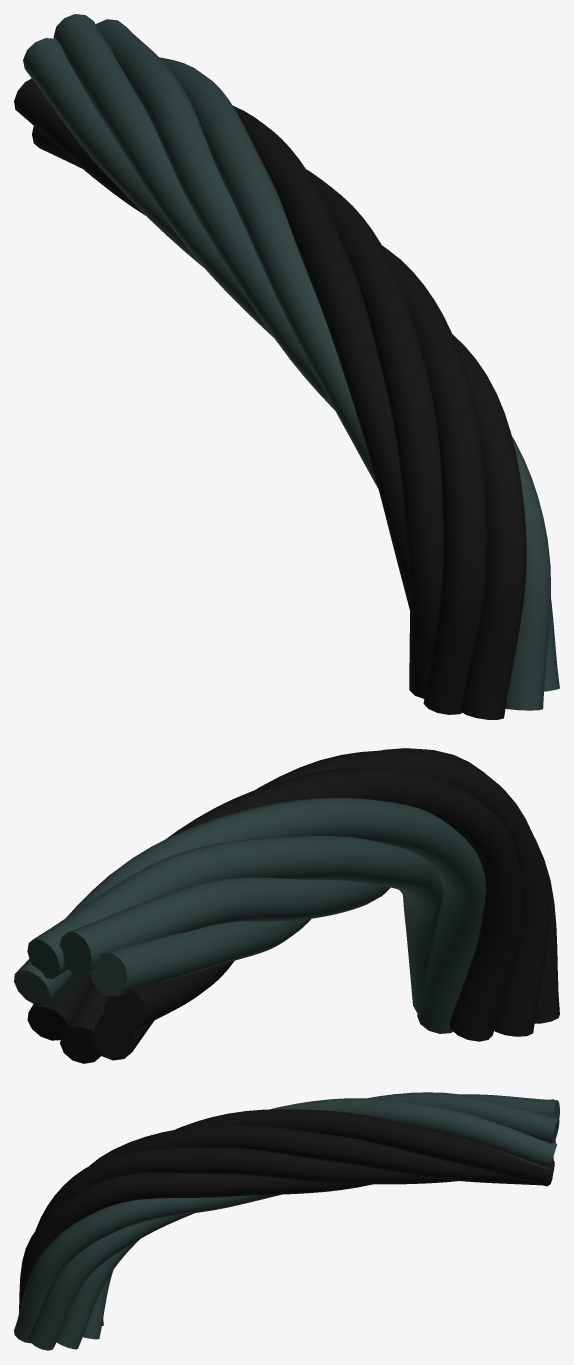
File: Cables pour wall.FBX
The picture shows the model from 3 angles, top to bottom: view 1: azimuth 30°, elevation 25°; view 2: azimuth 150°, elevation 25°; view 3: azimuth 270°, elevation 25°; orthographic projection. The views are drawn at different scales.
Visible parts, largest first — view 1: Cables; view 2: Cables; view 3: Cables.
Boxes of the visible parts, x1,y1,x2,y2 form: Cables: [14, 14, 559, 719]; Cables: [14, 748, 559, 1063]; Cables: [14, 1092, 559, 1350].
Bounding box in the file's own units: 178 × 503 × 1039.
